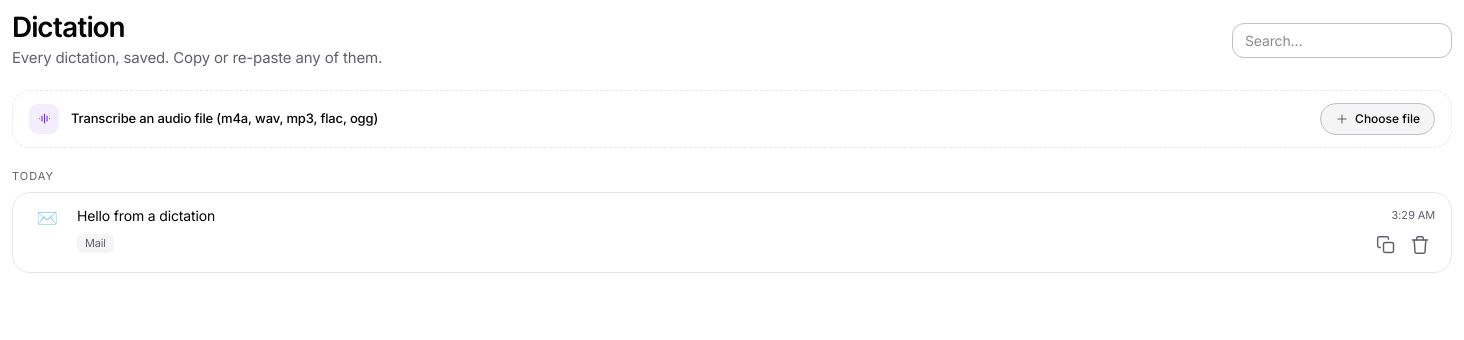
Test case: DictationScreen delete (A-1) › keeps the row and shows the write error when delete_dictation_entry rejects
Expected: the text "Hello from a dictation" is shown, [77,207,215,224]
Step 1. Click the button named "Delete entry" → (1420, 245), box [1405,230,1435,260]
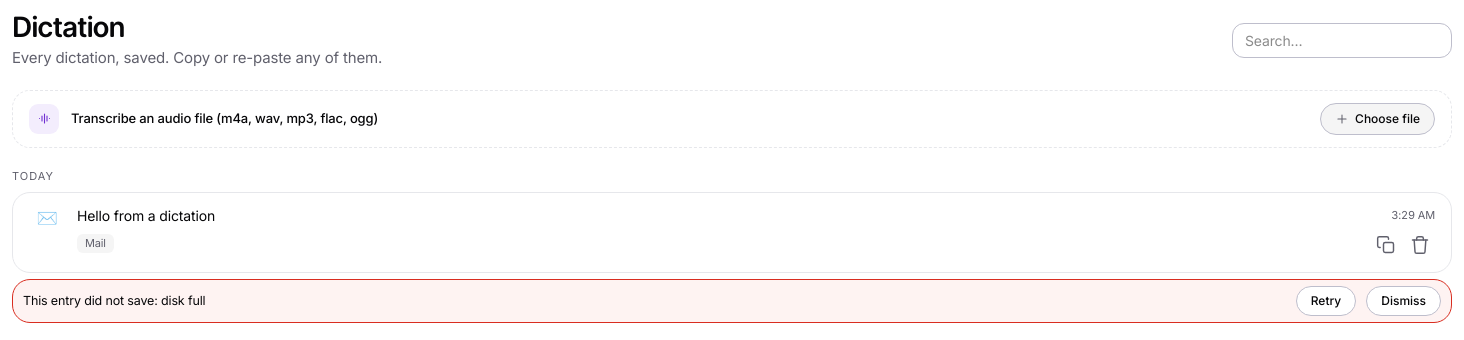
Expected: the text "Hello from a dictation" is shown, [77,207,215,224]
Expected: the text "This entry did not save: disk full" is shown, [23,293,205,308]
Expected: the button "Retry" is shown, [1296,286,1356,316]
